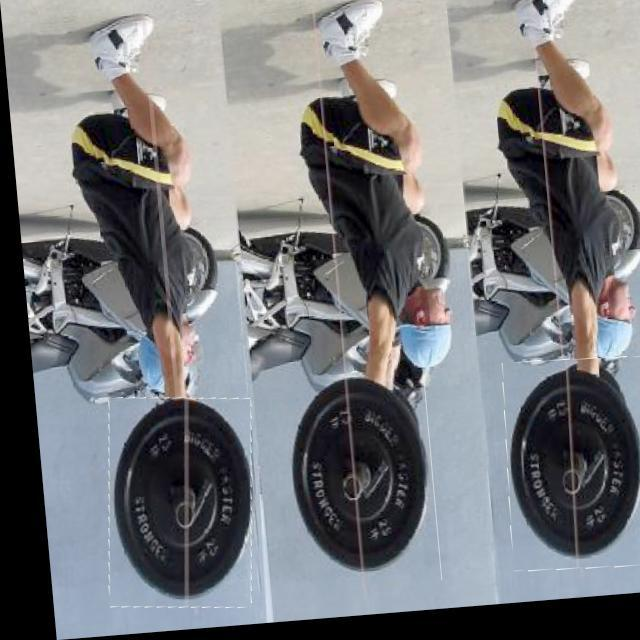barbell: (89, 394, 254, 617), (272, 376, 432, 598), (490, 364, 640, 583)
